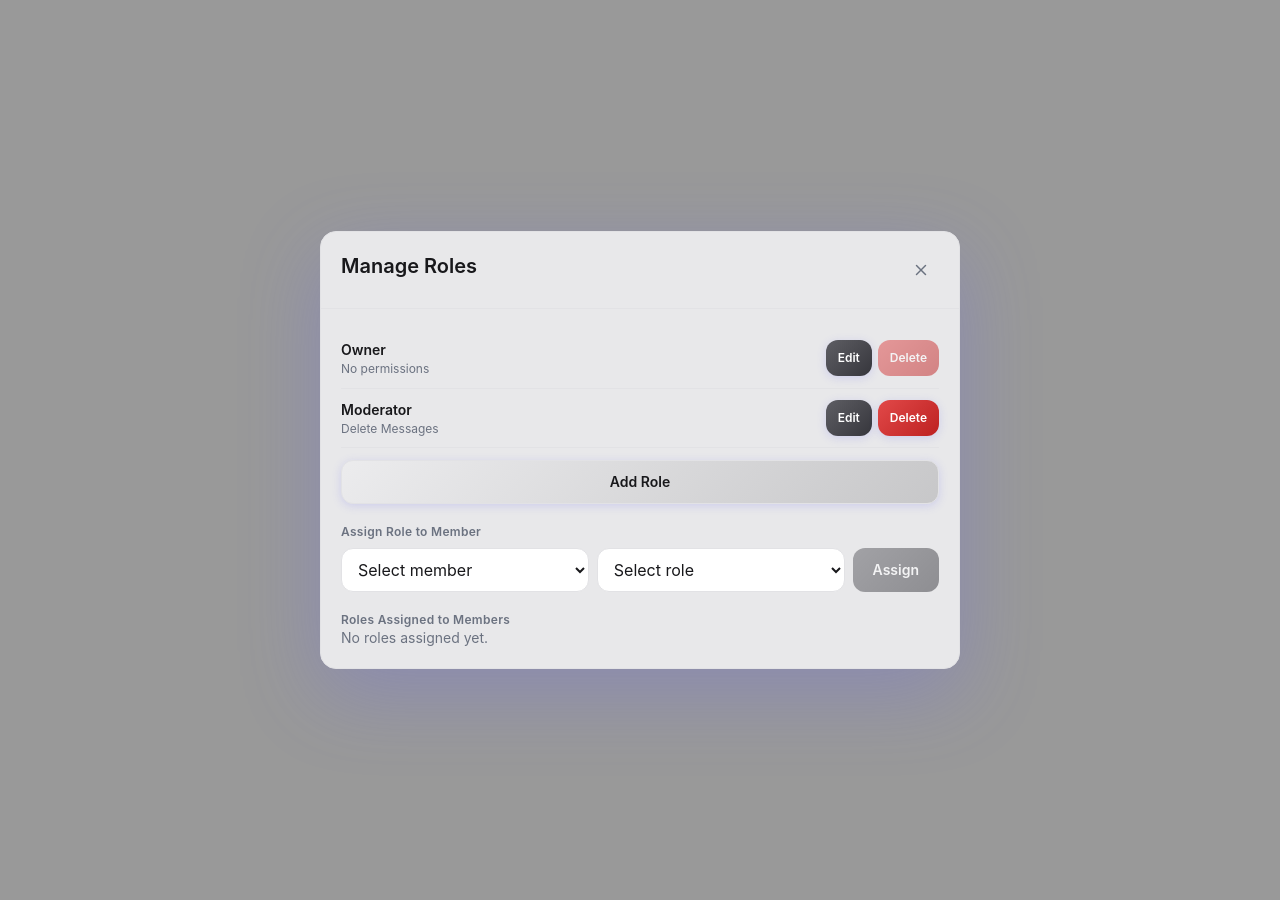
Test: ManageRolesModal › deletes a non-owner role once confirmed
This screenshot has width=1280, height=900.
Expected: the text "Moderator" is shown, [341, 400, 412, 418]
Click the button "Delete" in the row of "Delete Messages".
click(908, 418)  # box [878, 400, 939, 436]
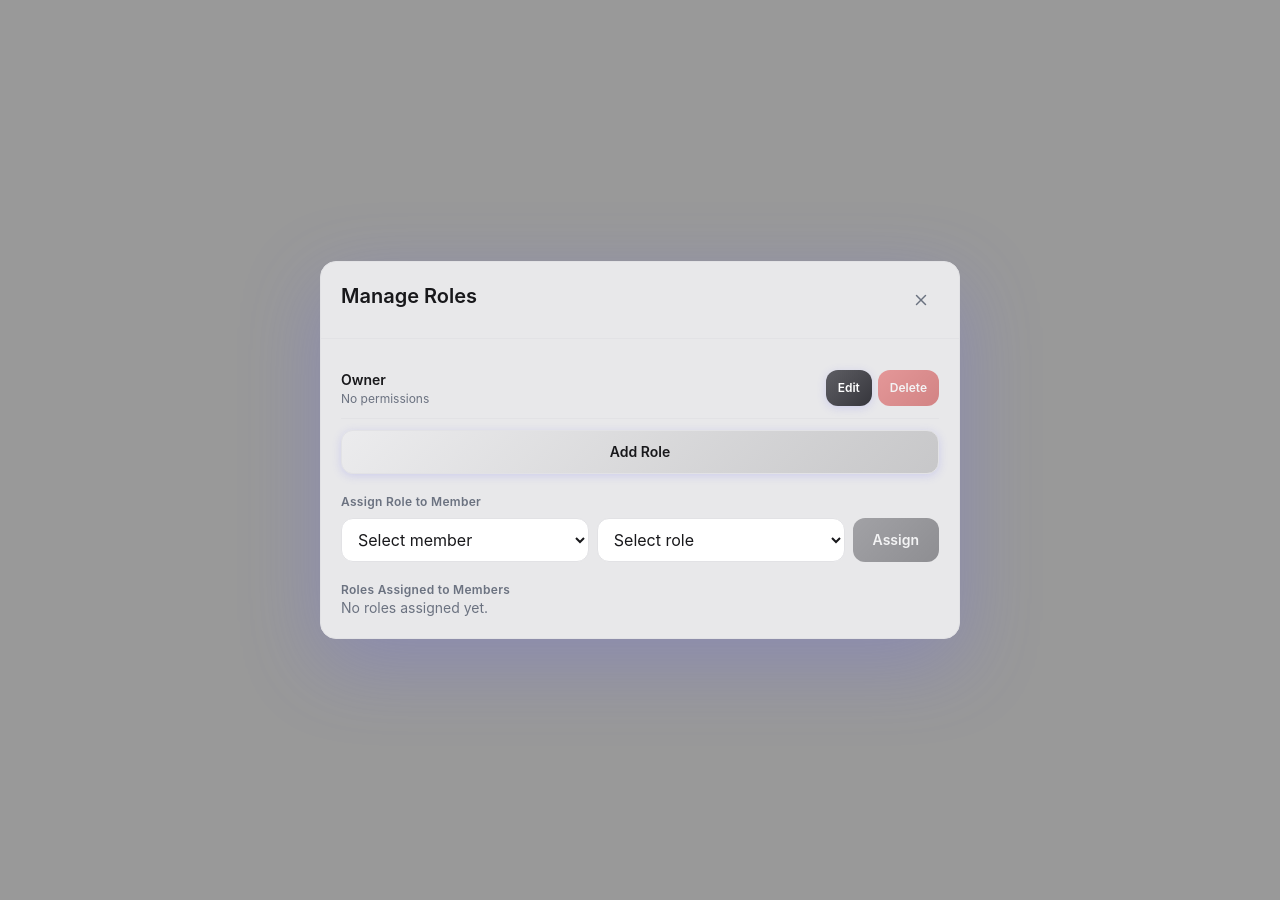
Expected: the text "Moderator" is gone
